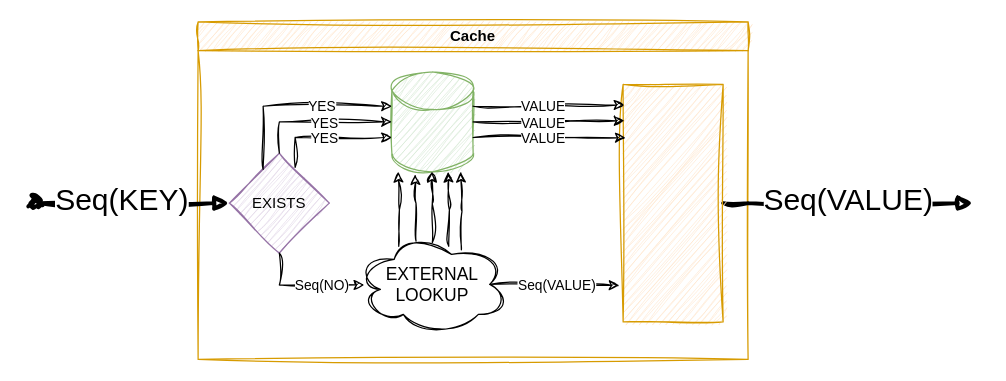
The diagram is 1006 pixels wide and 381 high, and some of its shapes have lost their labels. The shapes that lost their labels are listed below. From the top down, each one's centre as x and y in pixels, then its label:
(x=432, y=121): MAP KEY➙VALUE
(x=672, y=202): RESPONSE
